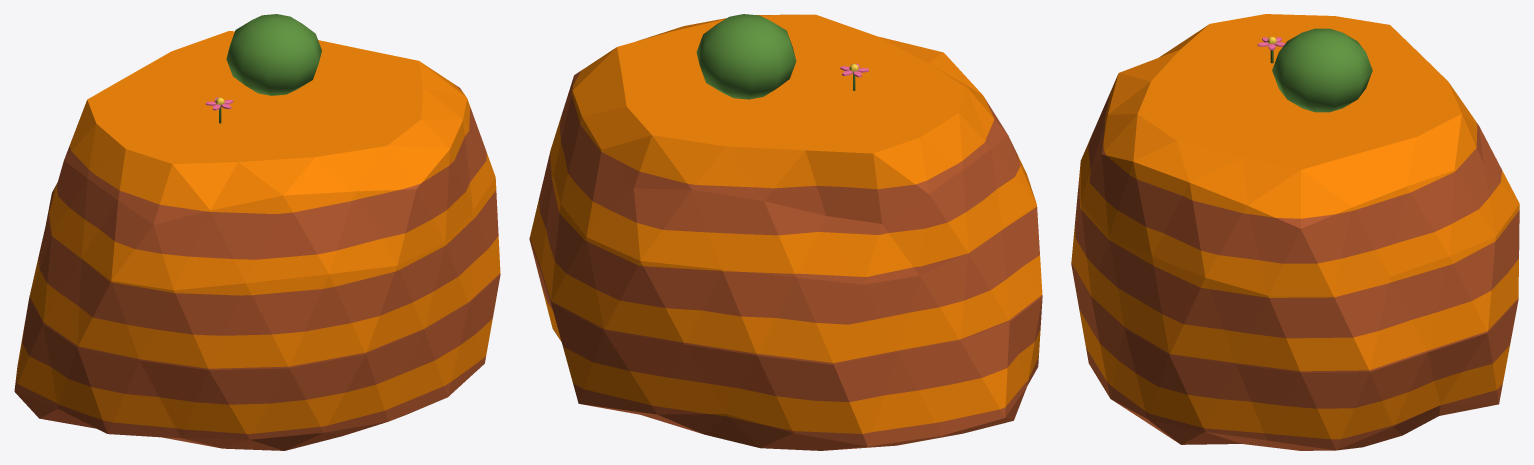
The model's file is W5_CanyonRock_A.fbx.
3 views of the same model, side by side, from view 1: azimuth 30°, elevation 25°; view 2: azimuth 150°, elevation 25°; view 3: azimuth 270°, elevation 25° (orthographic). The views are drawn at different scales.
Parts seen in each view (by area): view 1: W5_CanyonRock_A; view 2: W5_CanyonRock_A; view 3: W5_CanyonRock_A.
Part boxes in pixels (x1,y1,x2,y2): W5_CanyonRock_A: (14,14,500,450); W5_CanyonRock_A: (529,14,1042,450); W5_CanyonRock_A: (1071,14,1519,450).
Size of the model in its own units: 7.28 by 5.3 by 6.24.
